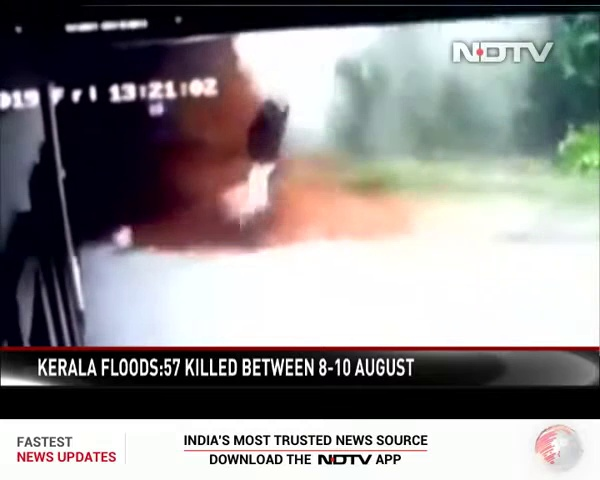person: (248, 103, 282, 215)
